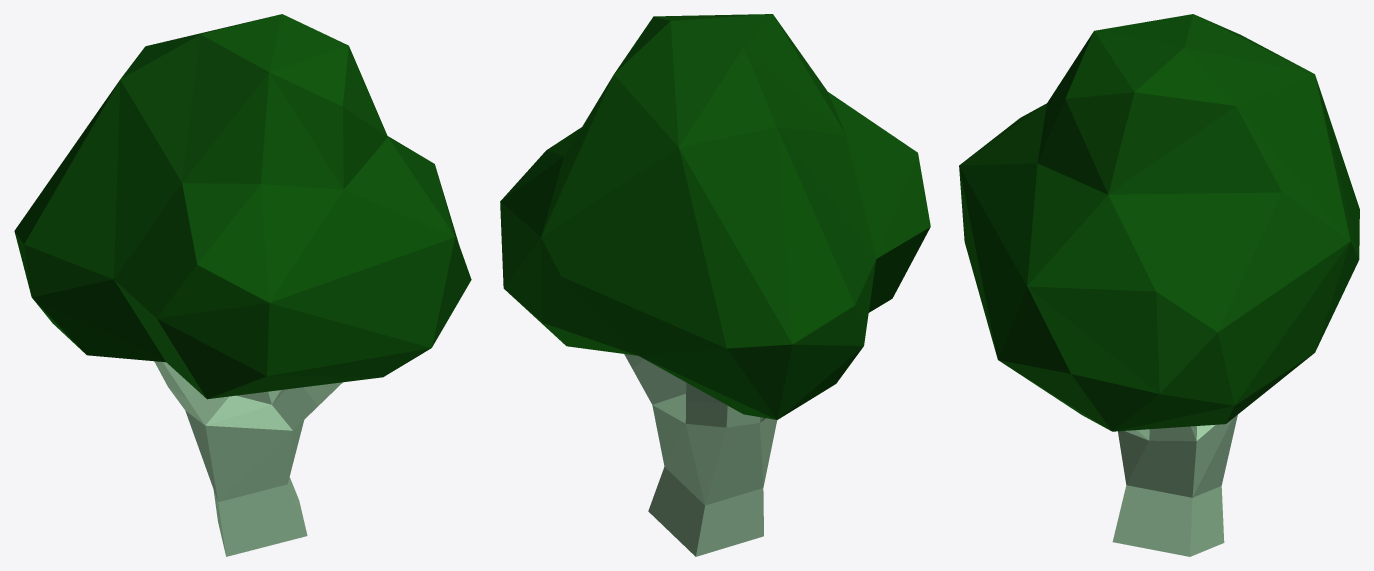
Rendered from broccoli.fbx.
The picture shows the model from 3 angles, left to right: view 1: azimuth 30°, elevation 25°; view 2: azimuth 150°, elevation 25°; view 3: azimuth 270°, elevation 25°; orthographic projection.
Parts seen in each view (by area): view 1: broccoli; view 2: broccoli; view 3: broccoli.
Boxes of the visible parts, bbox=[...] form: broccoli: bbox=[14, 14, 471, 556]; broccoli: bbox=[500, 14, 930, 556]; broccoli: bbox=[959, 14, 1359, 556].
Size of the model in its own units: 143 by 181 by 127.
